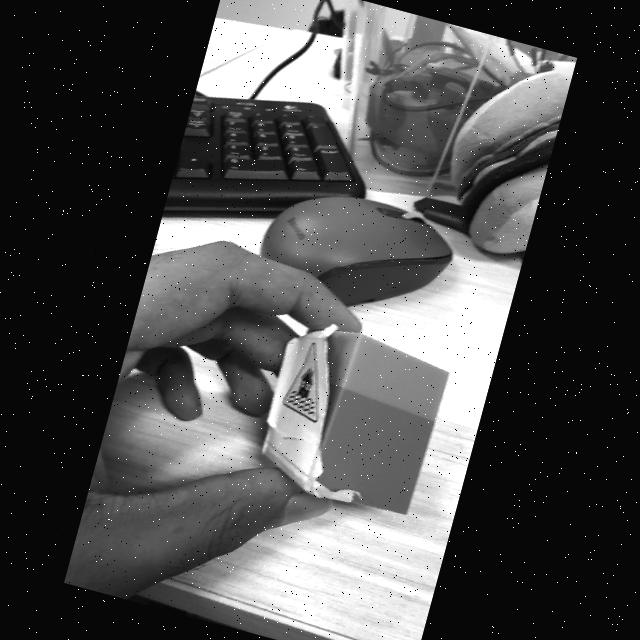Tsunami: (282, 342, 318, 421)
